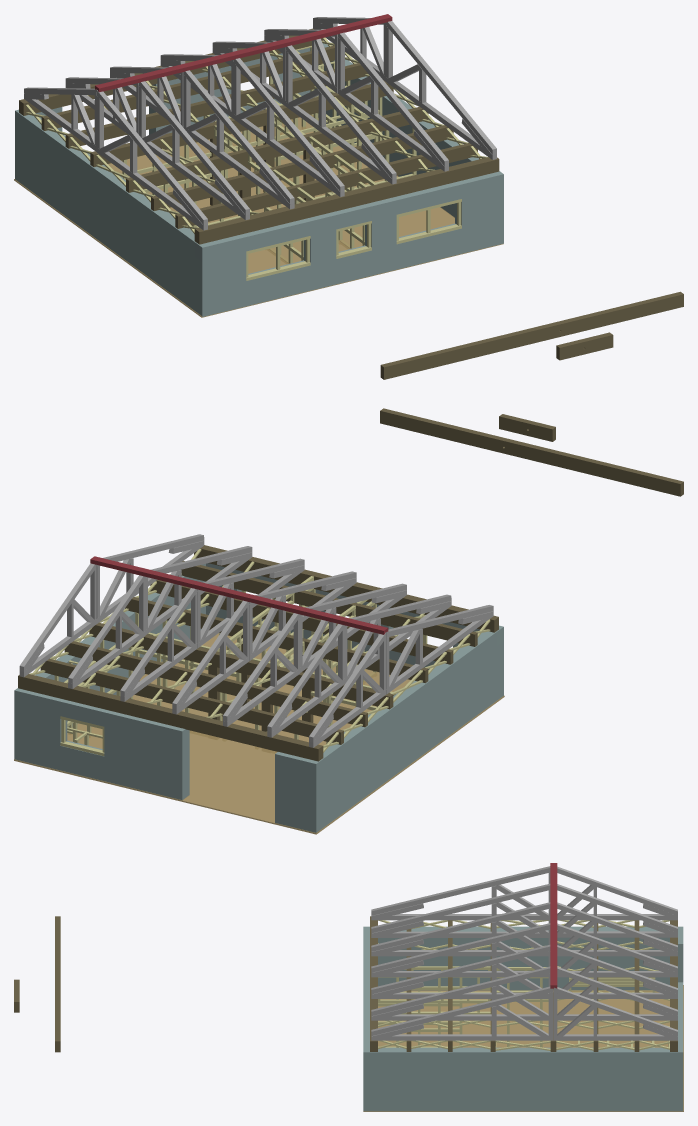
The model's file is tablewood_Drill_test_01.fbx.
3 views of the same model, one above another, from view 1: azimuth 30°, elevation 25°; view 2: azimuth 150°, elevation 25°; view 3: azimuth 270°, elevation 25° (orthographic). The views are drawn at different scales.
Parts seen in each view (by area): view 1: Wall01, roft_woodply05 (×7), roft_woodply03 (×8), pCube3, Ground01, pCube10, pCube8, pCube2, pCube9, pCube7, pCube1, pCube6 (+3 smaller); view 2: Wall01, roft_woodply05 (×14), Ground01, roft_woodply03 (×8), pCube4, pCube10, pCube6, pCube5, pCube9, pCube8, pCube1, pCube3 (+3 smaller); view 3: Wall01, roft_woodply05 (×14), roft_woodply03 (×14), Ground01, pCube9, pCube10, pCube3, pCube5, pCube4, pCube7, roft_woodply02.
Part boxes in pixels (x1,y1,x2,y2): Wall01: (15, 43, 503, 316); roft_woodply05 (×7): (96, 21, 496, 225); roft_woodply03 (×8): (24, 77, 496, 230); pCube3: (194, 157, 499, 244); Ground01: (14, 114, 503, 317); pCube10: (380, 291, 683, 379); pCube8: (175, 143, 477, 228); pCube2: (126, 106, 428, 192); pCube9: (95, 14, 392, 92); pCube7: (151, 125, 453, 210); pCube1: (90, 81, 393, 166); pCube6: (65, 63, 368, 148); Wall01: (14, 563, 503, 832); roft_woodply05 (×14): (19, 534, 493, 742); Ground01: (14, 633, 504, 834); roft_woodply03 (×8): (19, 611, 493, 747); pCube4: (18, 674, 323, 761); pCube10: (380, 408, 683, 496); pCube6: (64, 641, 367, 727); pCube5: (40, 658, 343, 744); pCube9: (90, 556, 388, 634); pCube8: (181, 561, 477, 646); pCube1: (89, 622, 393, 709); pCube3: (194, 545, 498, 632); Wall01: (363, 926, 683, 1111); roft_woodply05 (×14): (371, 866, 677, 1035); roft_woodply03 (×14): (371, 914, 677, 1040); Ground01: (363, 985, 683, 1111); pCube9: (550, 863, 557, 988); pCube10: (55, 916, 60, 1052); pCube3: (370, 916, 377, 1051); pCube5: (634, 920, 639, 1051); pCube4: (670, 920, 677, 1051); pCube7: (448, 920, 452, 1051); roft_woodply02: (496, 1005, 548, 1036).
Size of the model in its own units: 86.54 by 41.27 by 195.
